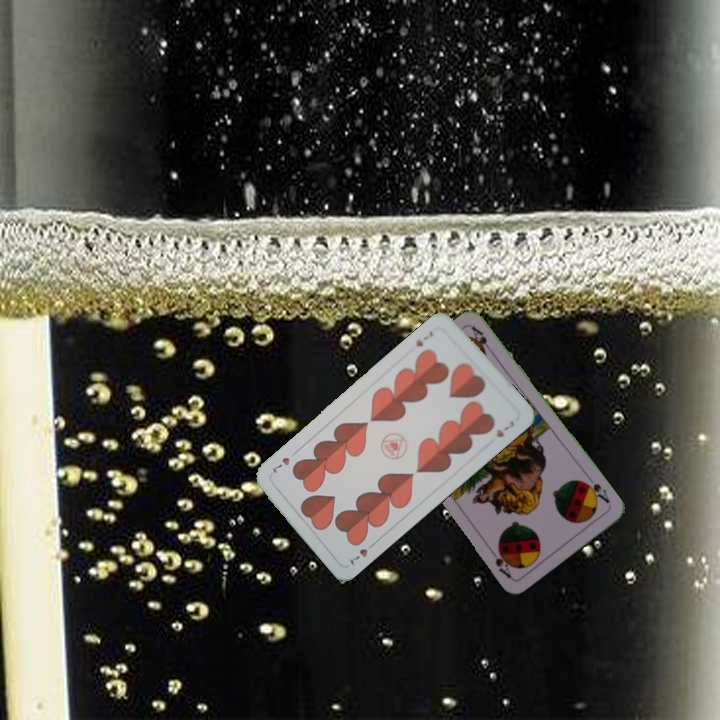H7: (344, 538, 378, 568), (412, 327, 436, 349)
SA: (579, 477, 613, 506)
